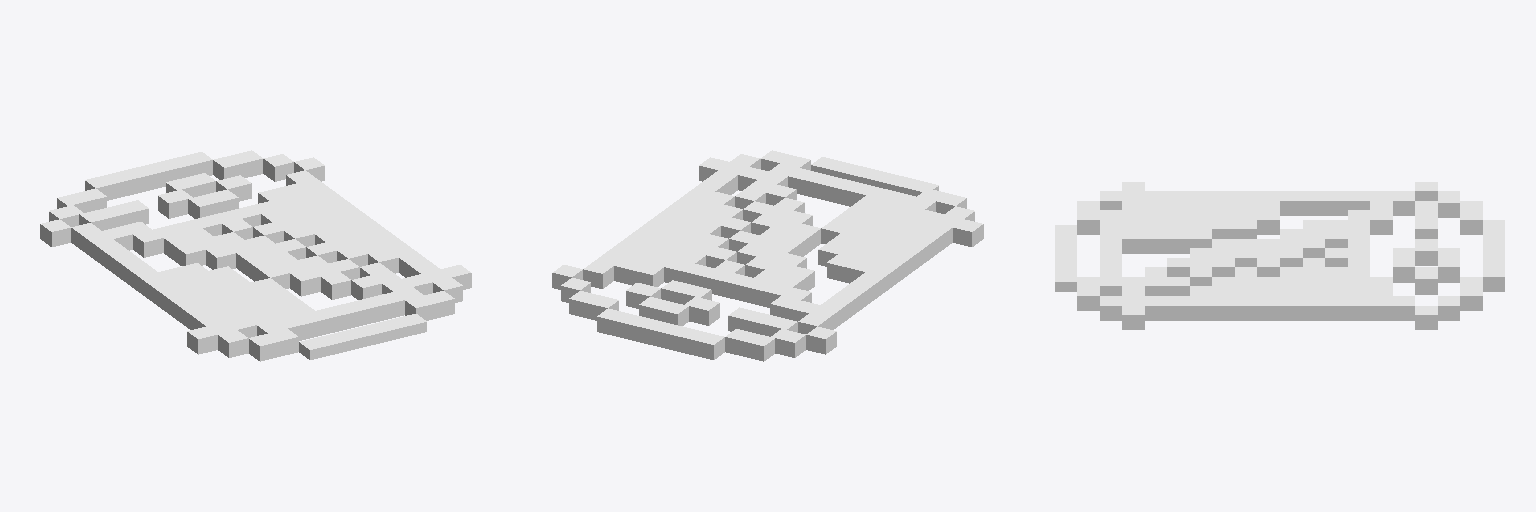
File: Key-0-can.obj
3 renders of one model, left to right at view 1: azimuth 30°, elevation 25°; view 2: azimuth 150°, elevation 25°; view 3: azimuth 270°, elevation 25°, orthographic.
Parts seen in each view (by area): view 1: can; view 2: can; view 3: can.
Part boxes in pixels (left/top/right/bottom): can: left=40, top=150, right=471, bottom=361; can: left=552, top=150, right=983, bottom=361; can: left=1055, top=182, right=1504, bottom=329.
Bounding box in the file's own units: 5.6 × 0.3 × 8.